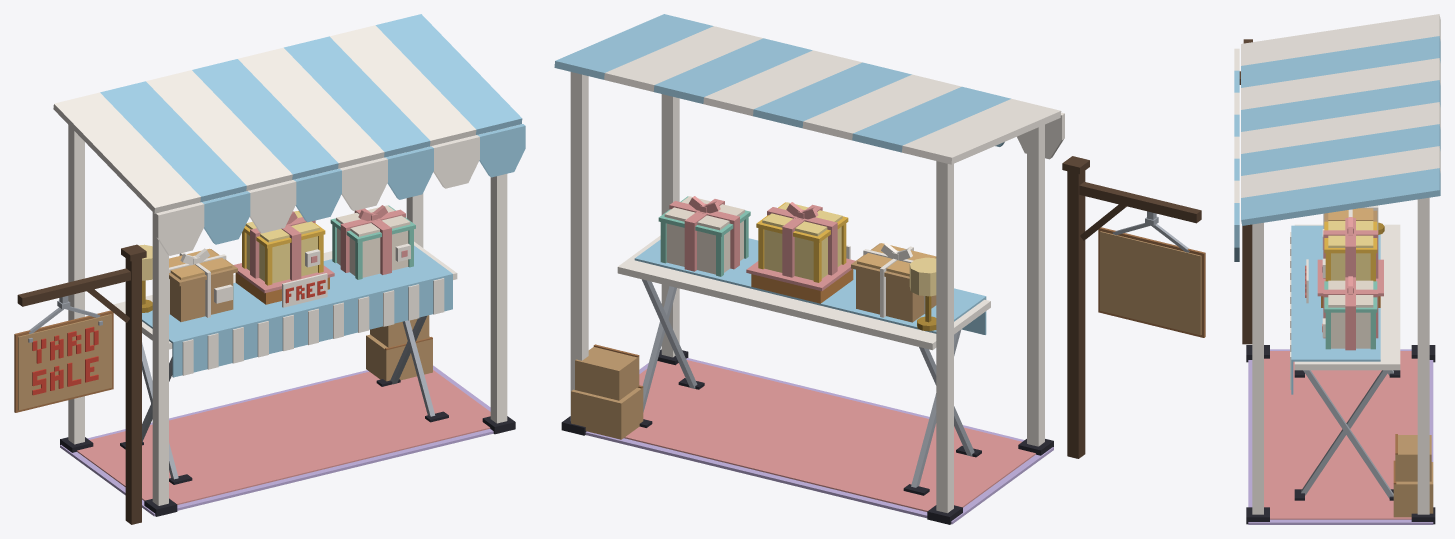
The model's file is CatCafe_Camp_Neighbourhood_YardSaleStall.glb.
3 views of the same model, side by side, from view 1: azimuth 30°, elevation 25°; view 2: azimuth 150°, elevation 25°; view 3: azimuth 270°, elevation 25° (orthographic). The views are drawn at different scales.
Parts seen in each view (by area): view 1: CatCafe_Camp_Neighbourhood_YardSaleStall, CatCafe_Camp_Neighbourhood_YardSaleStall_Sign_Swing; view 2: CatCafe_Camp_Neighbourhood_YardSaleStall, CatCafe_Camp_Neighbourhood_YardSaleStall_Sign_Swing; view 3: CatCafe_Camp_Neighbourhood_YardSaleStall.
Part boxes in pixels (bbox=[...]): CatCafe_Camp_Neighbourhood_YardSaleStall: bbox=[17, 14, 525, 524]; CatCafe_Camp_Neighbourhood_YardSaleStall_Sign_Swing: bbox=[14, 300, 113, 412]; CatCafe_Camp_Neighbourhood_YardSaleStall: bbox=[554, 14, 1201, 524]; CatCafe_Camp_Neighbourhood_YardSaleStall_Sign_Swing: bbox=[1098, 216, 1205, 337]; CatCafe_Camp_Neighbourhood_YardSaleStall: bbox=[1234, 14, 1440, 524].
Bounding box in the file's own units: 8.64 × 5.61 × 3.12.
1 material, 1 textured.
